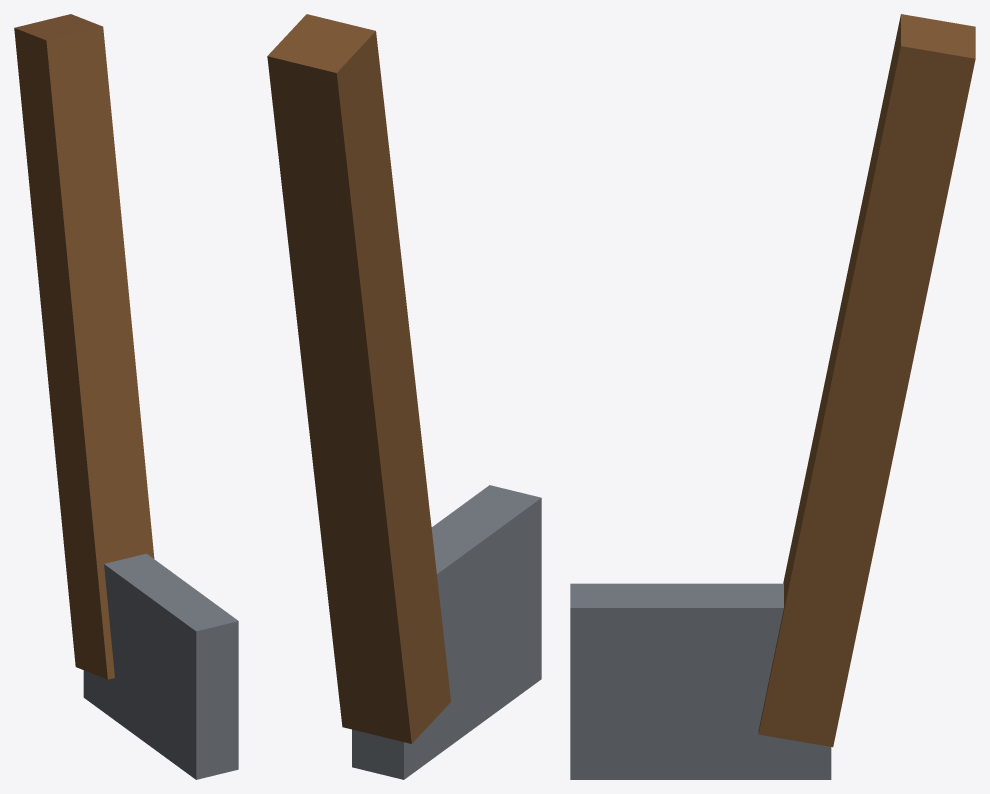
File: tool_axe.glb
The picture shows the model from 3 angles, left to right: view 1: azimuth 30°, elevation 25°; view 2: azimuth 150°, elevation 25°; view 3: azimuth 270°, elevation 25°; orthographic projection. The views are drawn at different scales.
Visible parts, largest first — view 1: tool_axe; view 2: tool_axe; view 3: tool_axe.
Boxes of the visible parts, bbox=[...] form: tool_axe: bbox=[14, 14, 238, 779]; tool_axe: bbox=[267, 14, 541, 779]; tool_axe: bbox=[570, 14, 975, 779].
Size of the model in its own units: 0.016 by 0.1715 by 0.0854.
